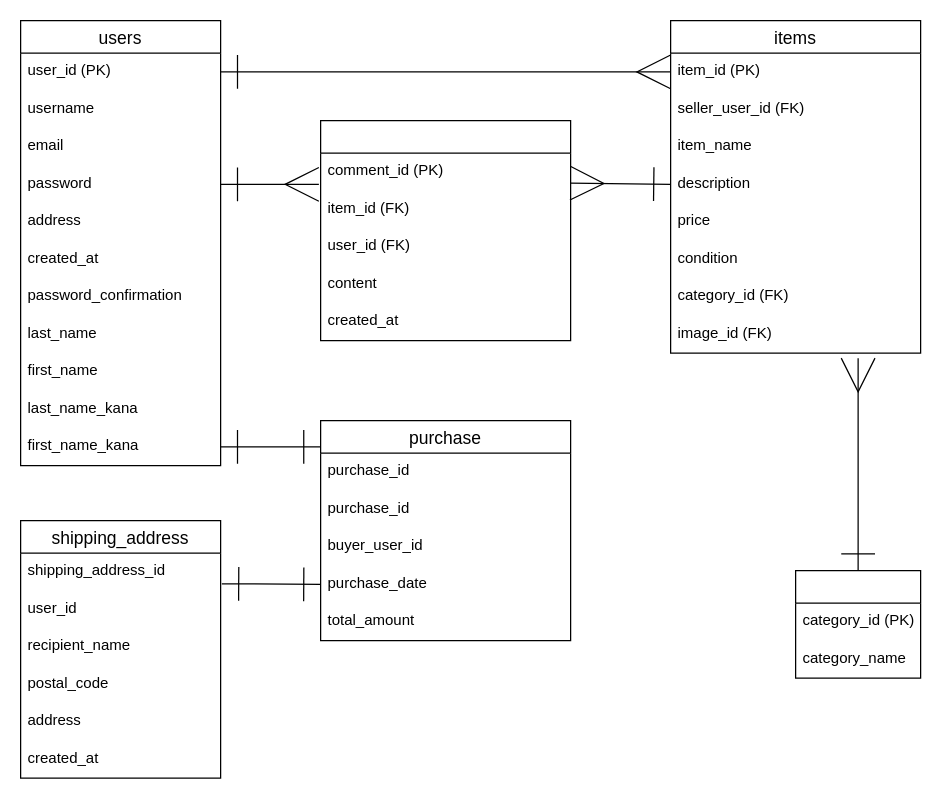
Image size: 941x799. Some labels were removed from this diagram. The box of each missing label's shape, as (x1, y1, x2, y2) in pixels:
categorys: (794, 569, 921, 678)
comments: (319, 119, 571, 341)
